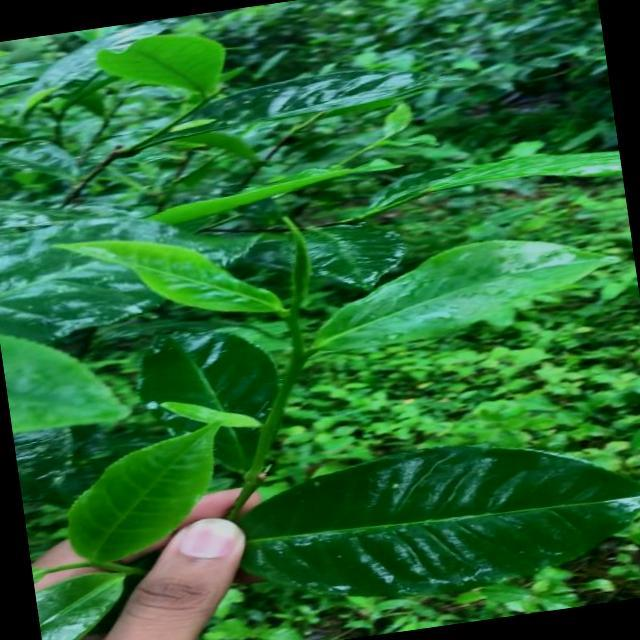Stem: (277, 356, 307, 400)
